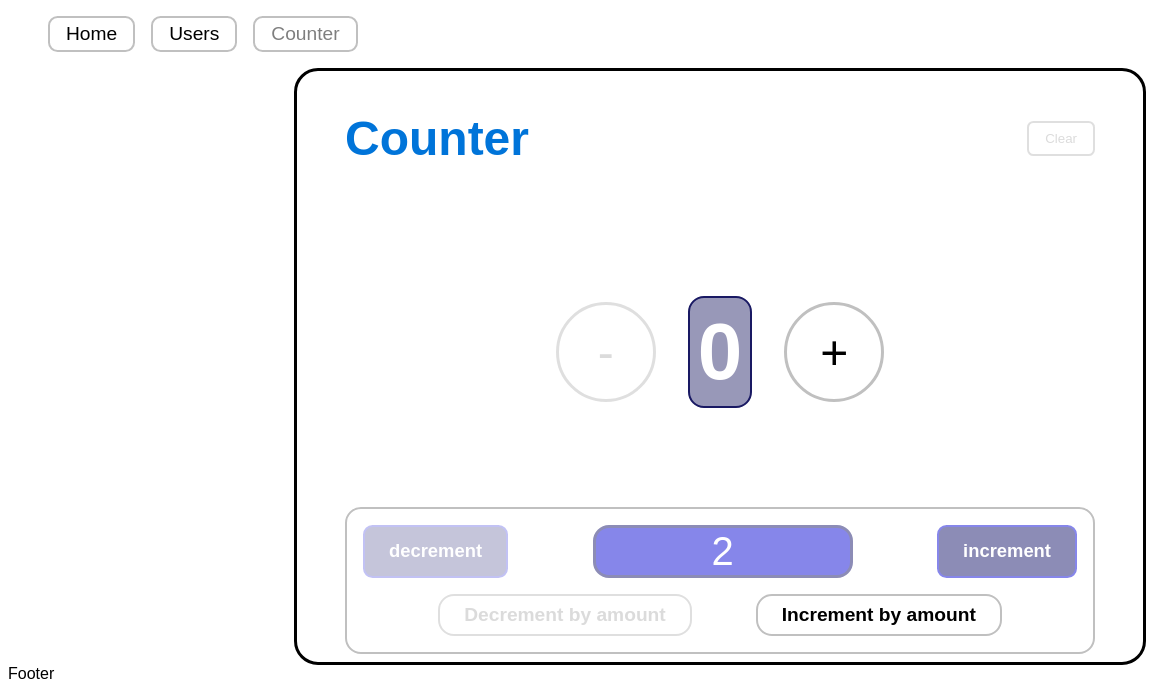
Test: Test CounterIncrementAndDecrement › Test global-counter-increment-button › Test button functionality case when value was updated by amount-buttons-box__increment-btn
Check: the heading with test id "global-counter-value" reads "0", box [698, 307, 742, 396]
Click the button with test id "amount-buttons-box__increment-btn" at point(879, 615), box [756, 594, 1002, 636]
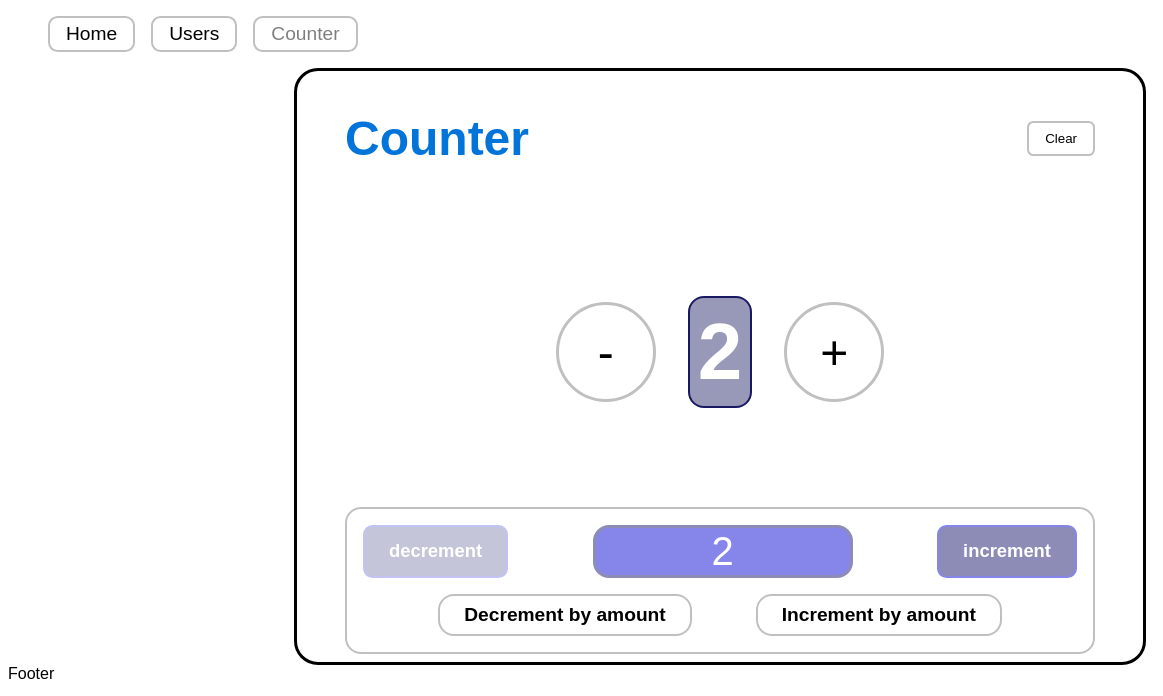
Check: the heading with test id "global-counter-value" reads "2", box [698, 307, 742, 396]
Click the button with test id "global-counter-increment-button" at point(834, 352), box [784, 302, 884, 402]
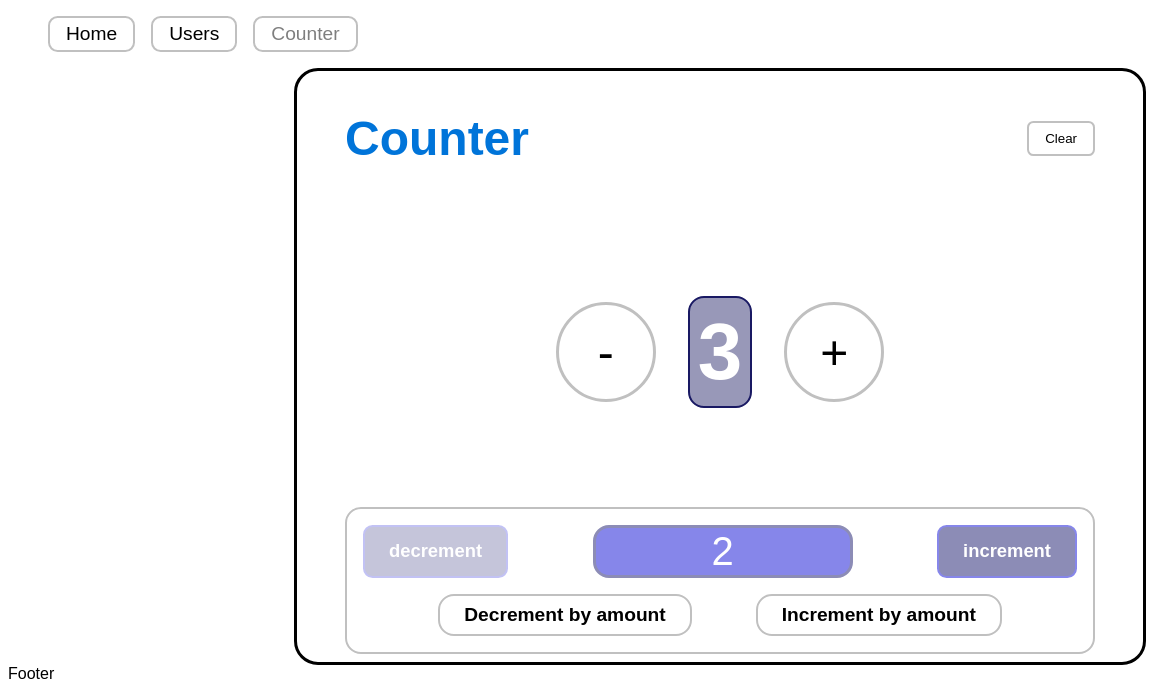
Check: the heading with test id "global-counter-value" reads "3", box [698, 307, 742, 396]
